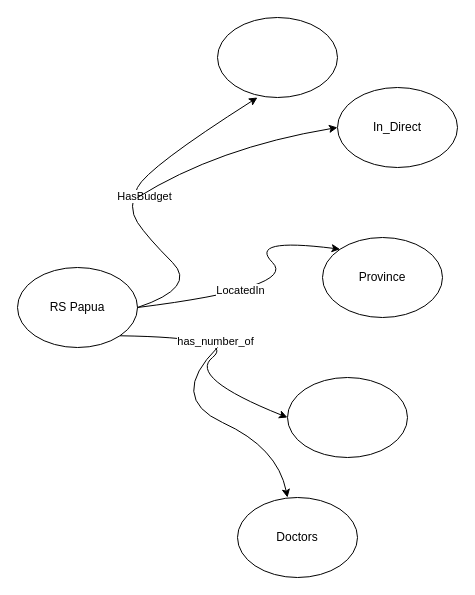
Some shapes in this 475 by 595 pixel diagram are drawn without their labels. Each missing label, with the centre of its shape:
"Direct" belongs at (x=277, y=57).
"Nurses" belongs at (x=347, y=417).
